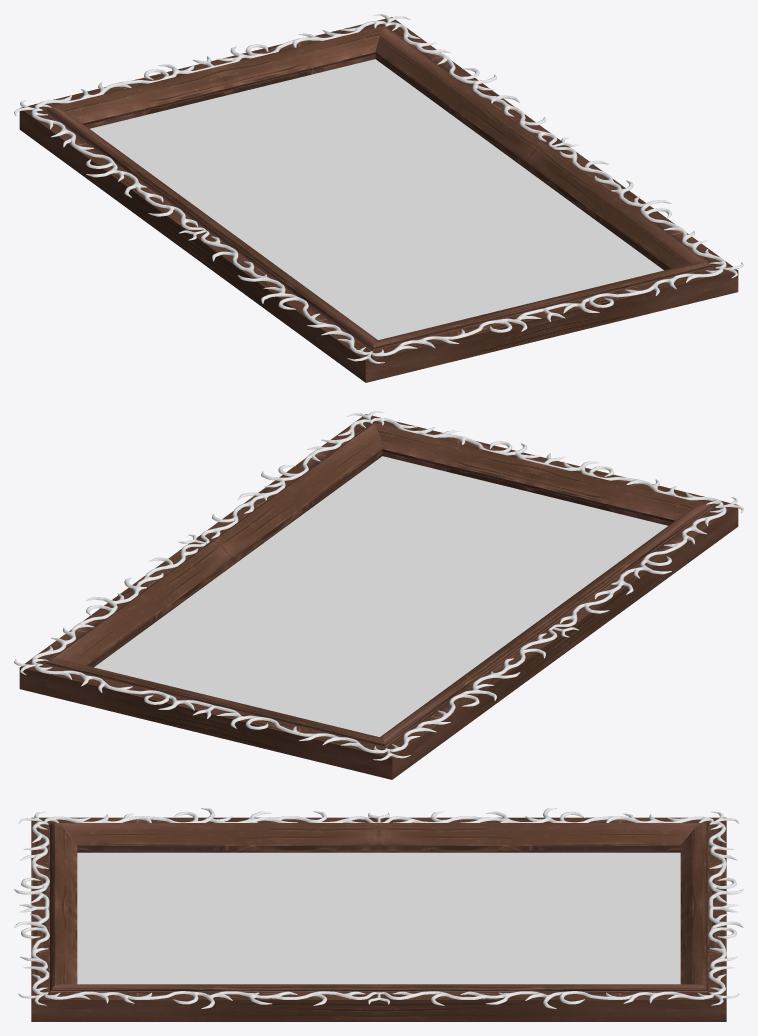
The model's file is GoldenFrame.fbx.
3 views of the same model, one above another, from view 1: azimuth 30°, elevation 25°; view 2: azimuth 150°, elevation 25°; view 3: azimuth 270°, elevation 25° (orthographic).
Visible parts, largest first — view 1: Image_3.001, Frame_Golden_1, Border; view 2: Image_3.001, Frame_Golden_1, Border; view 3: Image_3.001, Frame_Golden_1, Border.
Boxes of the visible parts, x1,y1,x2,y2 form: Image_3.001: (90, 59, 663, 339); Frame_Golden_1: (19, 17, 738, 382); Border: (14, 14, 743, 363); Image_3.001: (94, 456, 667, 736); Frame_Golden_1: (19, 414, 738, 779); Border: (14, 411, 743, 760); Image_3.001: (77, 852, 680, 984); Frame_Golden_1: (31, 817, 726, 1021); Border: (14, 808, 743, 1008).
Size of the model in its own units: 144 by 8.82 by 222.
